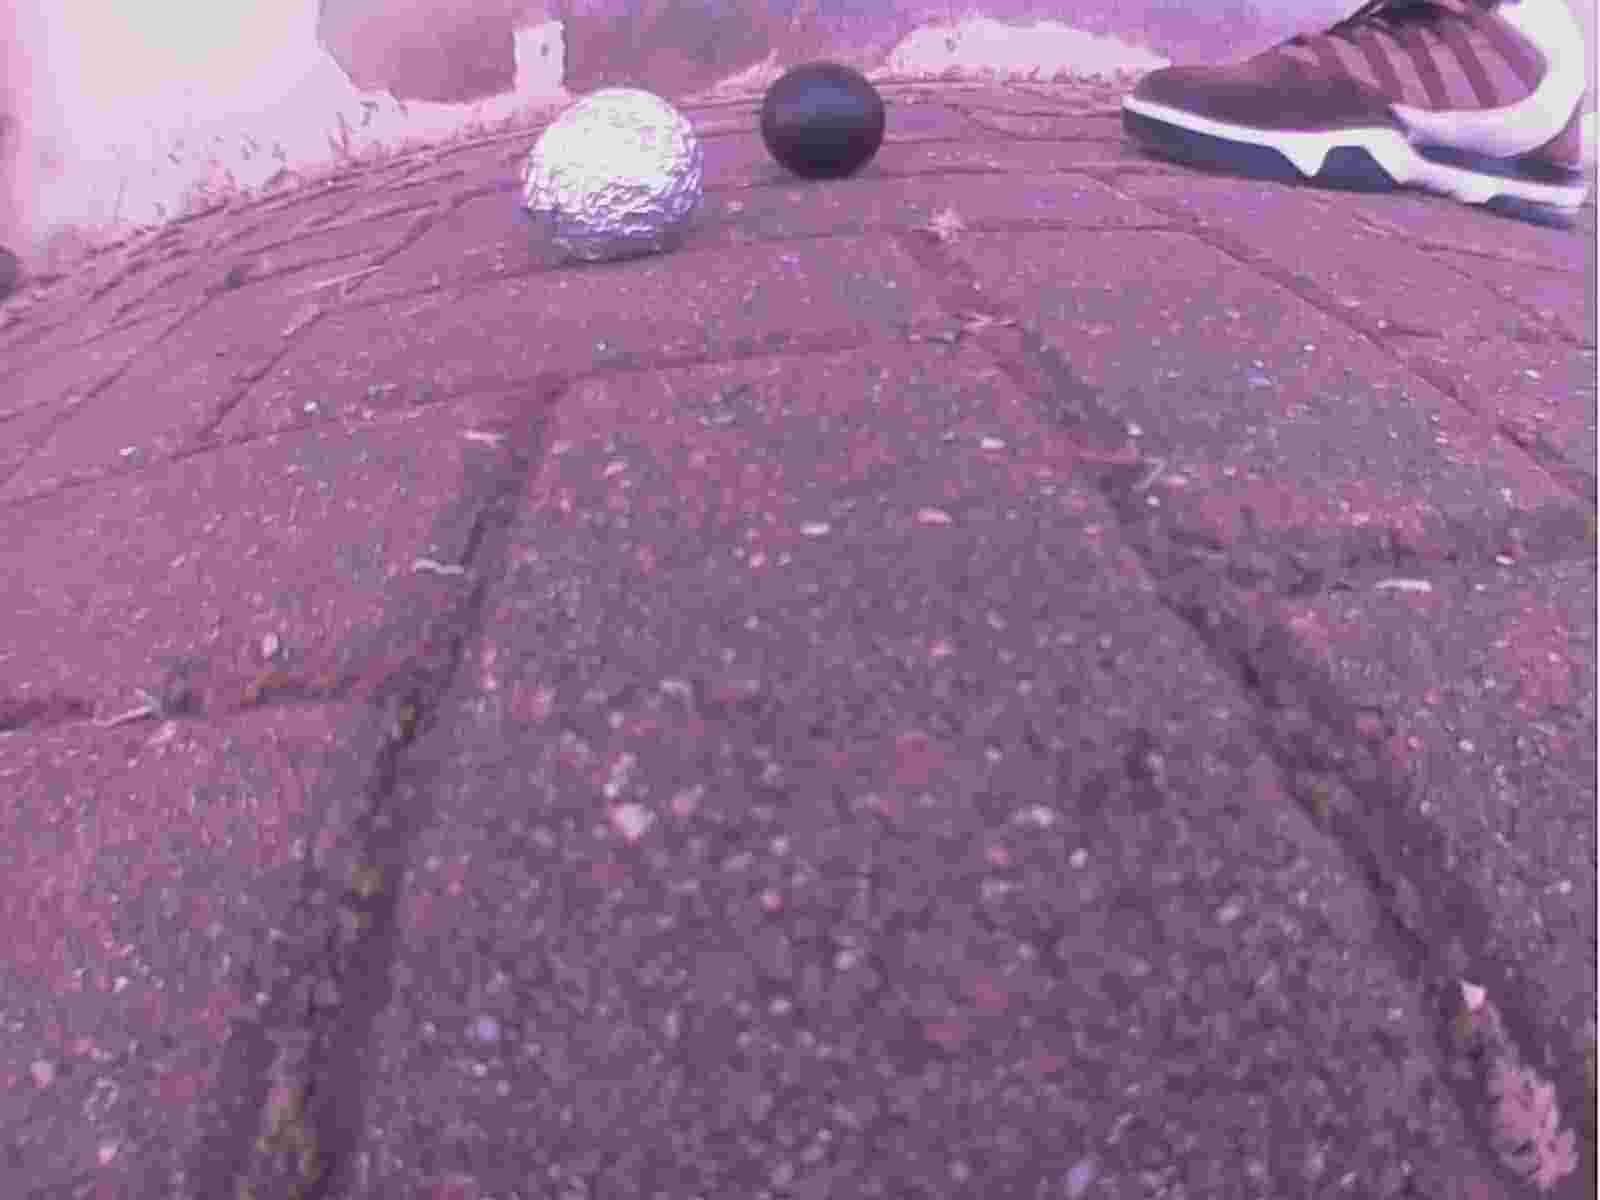bianca: (522, 87, 698, 267)
nera: (753, 61, 889, 185)
